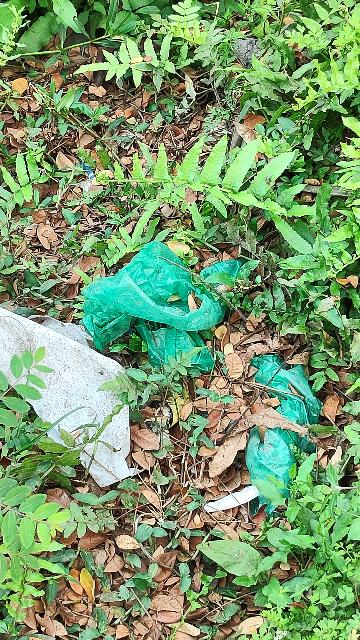polythene: (67, 248, 319, 470)
